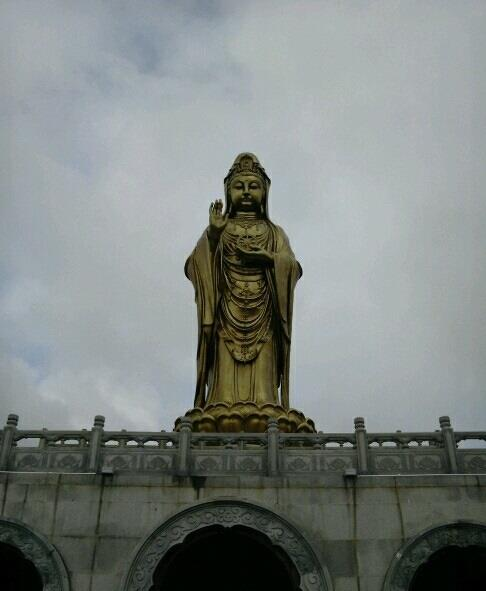Putuo_Mountain_Avalokitesvara: (178, 146, 319, 447)
